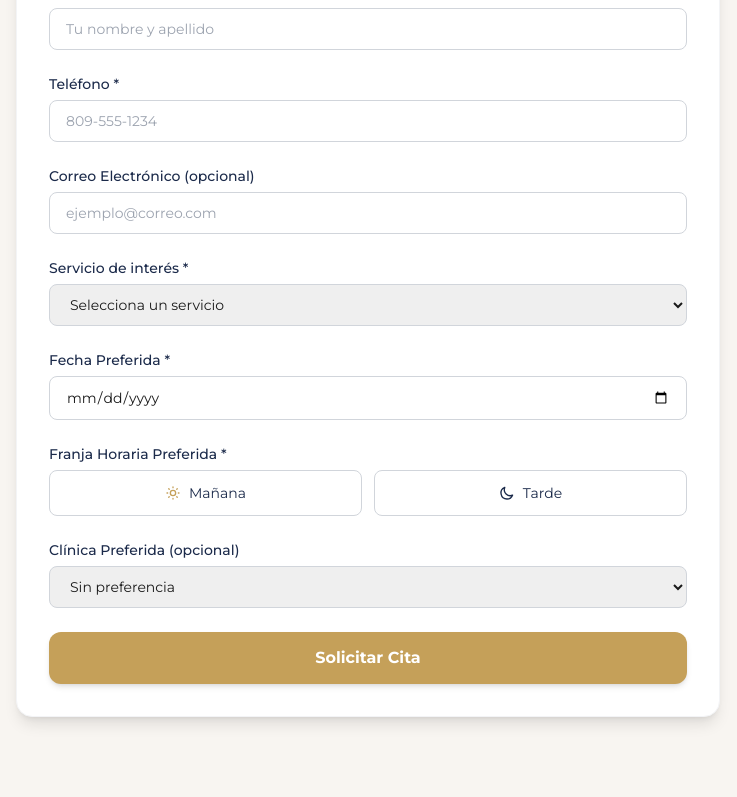
Scenario: AppointmentForm - Clinic Selection › should allow manual clinic selection from dropdown
The image size is (737, 797).
(page scrolled)
Select "Clínica Centro — Calle Principal 123" in the dropdown labelled "Clínica Preferida (opcional)" at point(368, 587), box [49,566,687,608]
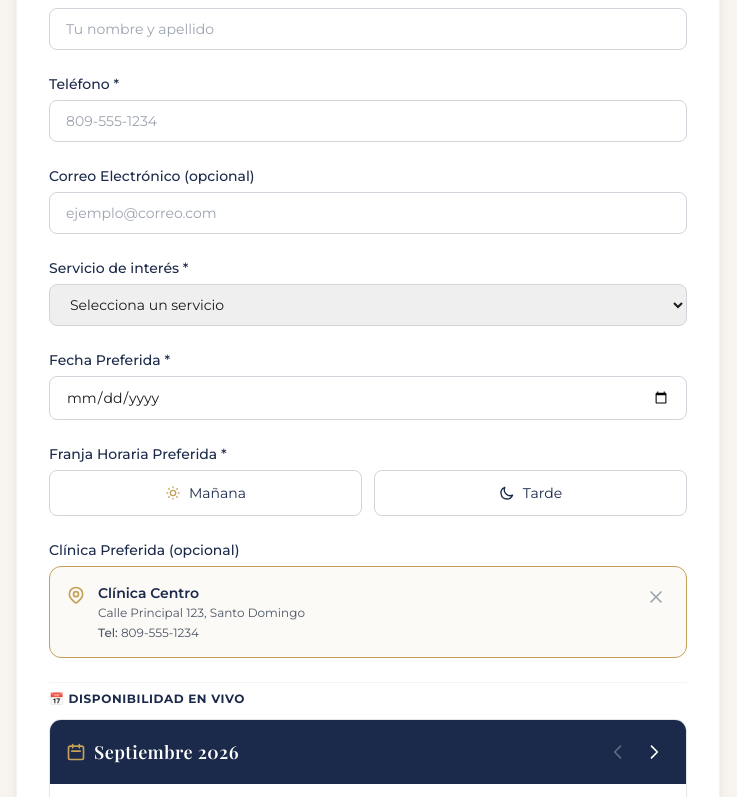
Check: the text "Clínica Centro" is shown, box [98,584,199,602]
Check: the text "Calle Principal 123, Santo Domingo" is shown, box [98,605,305,620]
